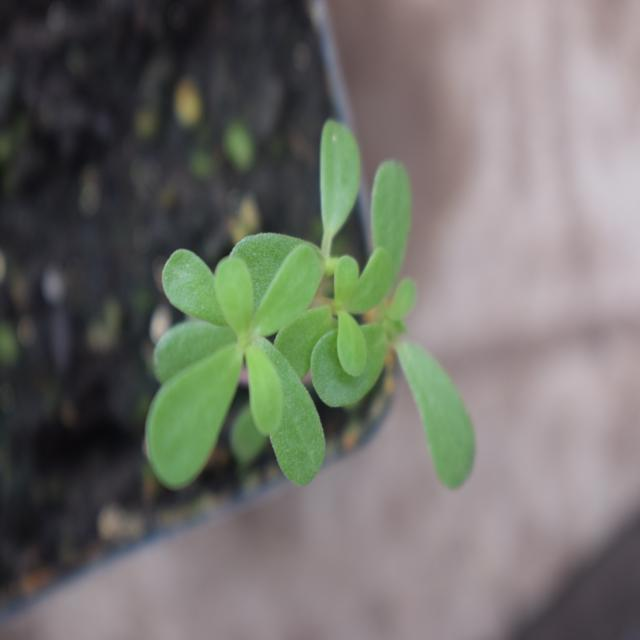purslane: (140, 130, 480, 509)
